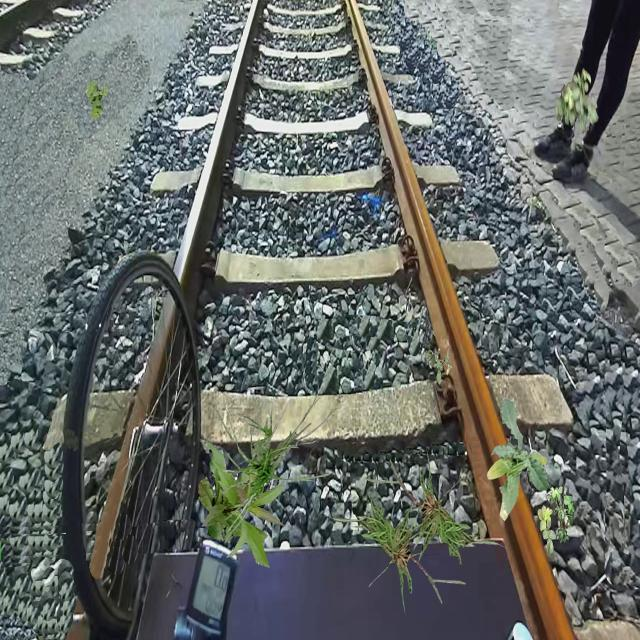Plant: (214, 380, 332, 544), (323, 496, 466, 616), (366, 448, 509, 568), (198, 439, 286, 569), (487, 397, 550, 522), (555, 67, 598, 134), (538, 482, 576, 556), (425, 344, 452, 385), (85, 79, 109, 120)
